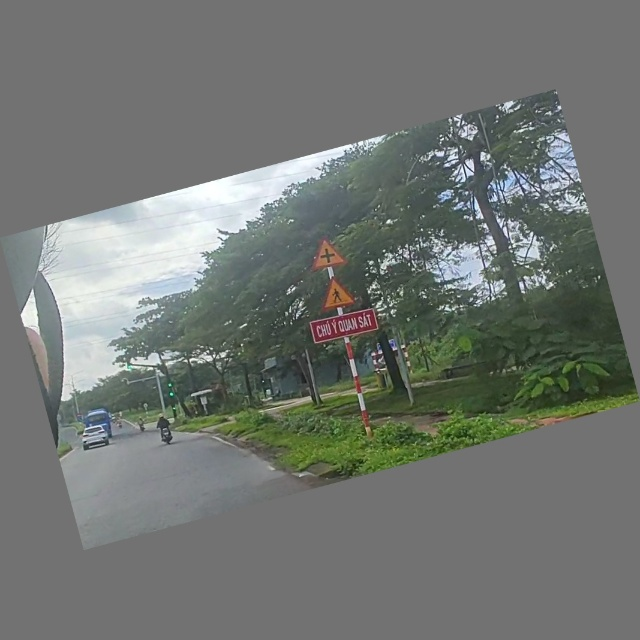W.205a: (305, 232, 351, 272)
W.224: (313, 270, 364, 312)
